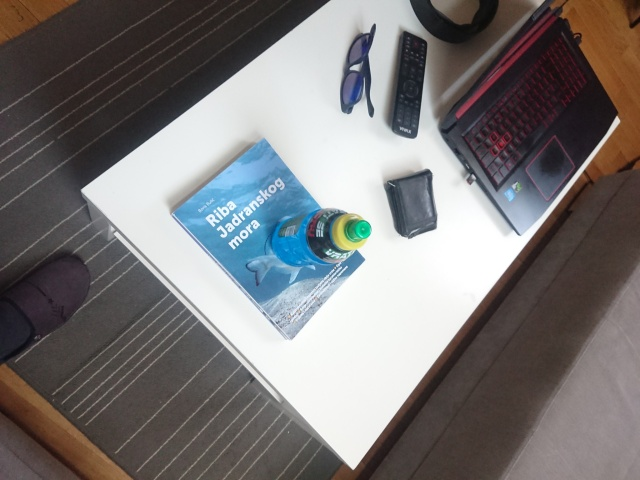Vindi Iso Sport Forest Strawberries 500mL: (269, 206, 373, 268)
